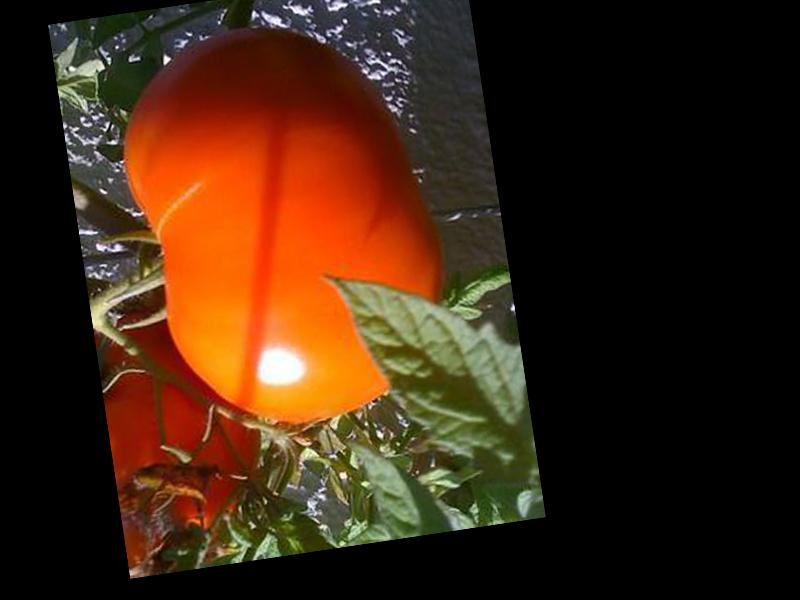Tomato: (107, 6, 461, 444)
